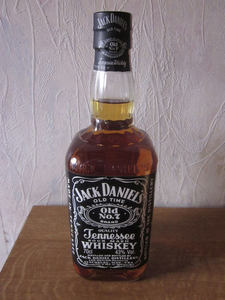Jack Daniel: (61, 7, 163, 287)
